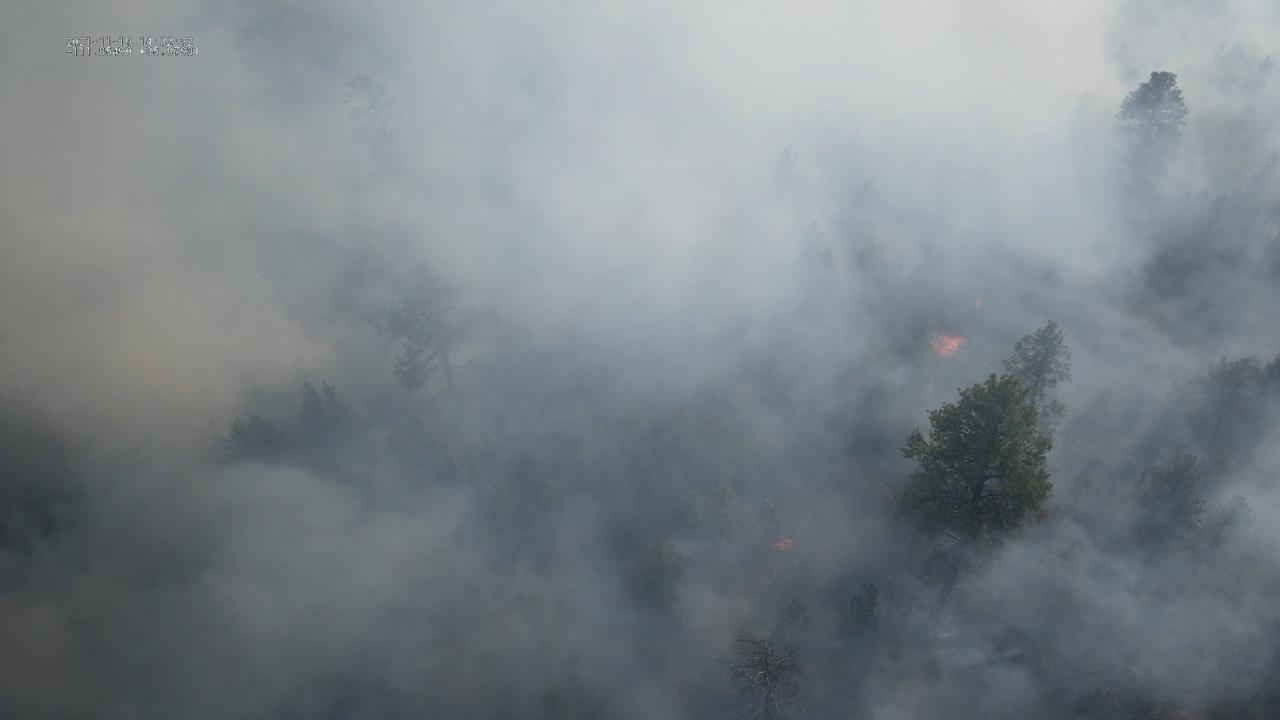fire: (927, 331, 968, 358), (772, 536, 794, 551), (973, 299, 984, 310)
smoke: (0, 0, 1280, 720)
